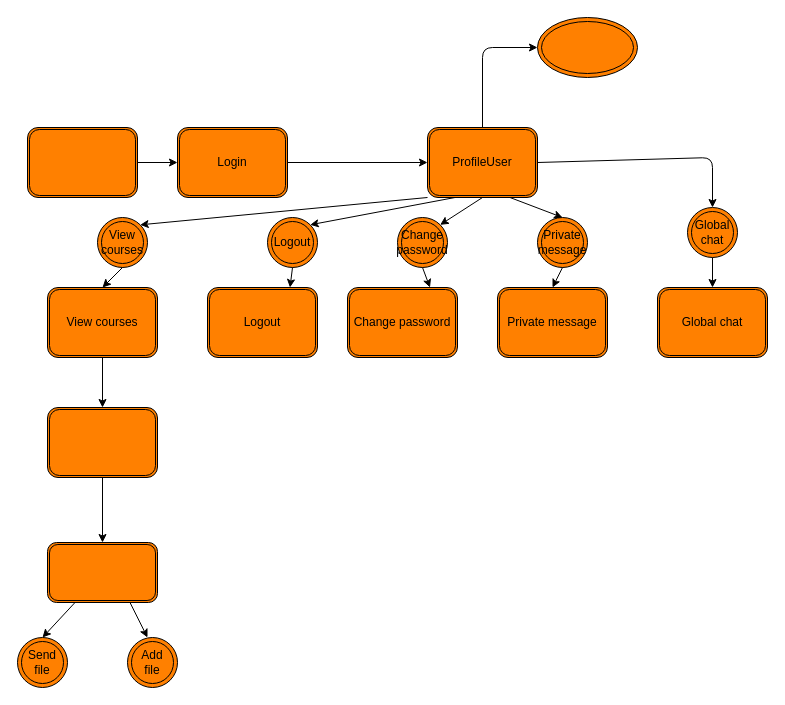
The diagram is 785 pixels wide and 705 high, and some of its shapes have lost their labels. Each missing label, with the centre of its shape:
"Change picture profile" goes at [587,47].
"Details of a specific course" goes at [102,442].
"Register" goes at [82,162].
"Upload homework" goes at [102,572].
